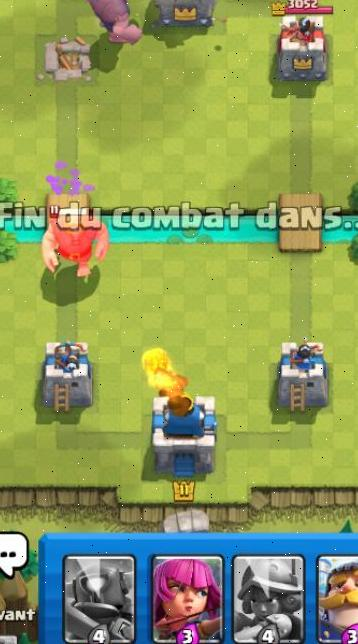enemy_giant: (36, 207, 114, 282)
player_fireball: (135, 338, 189, 405)
player_giant: (78, 0, 145, 49)
